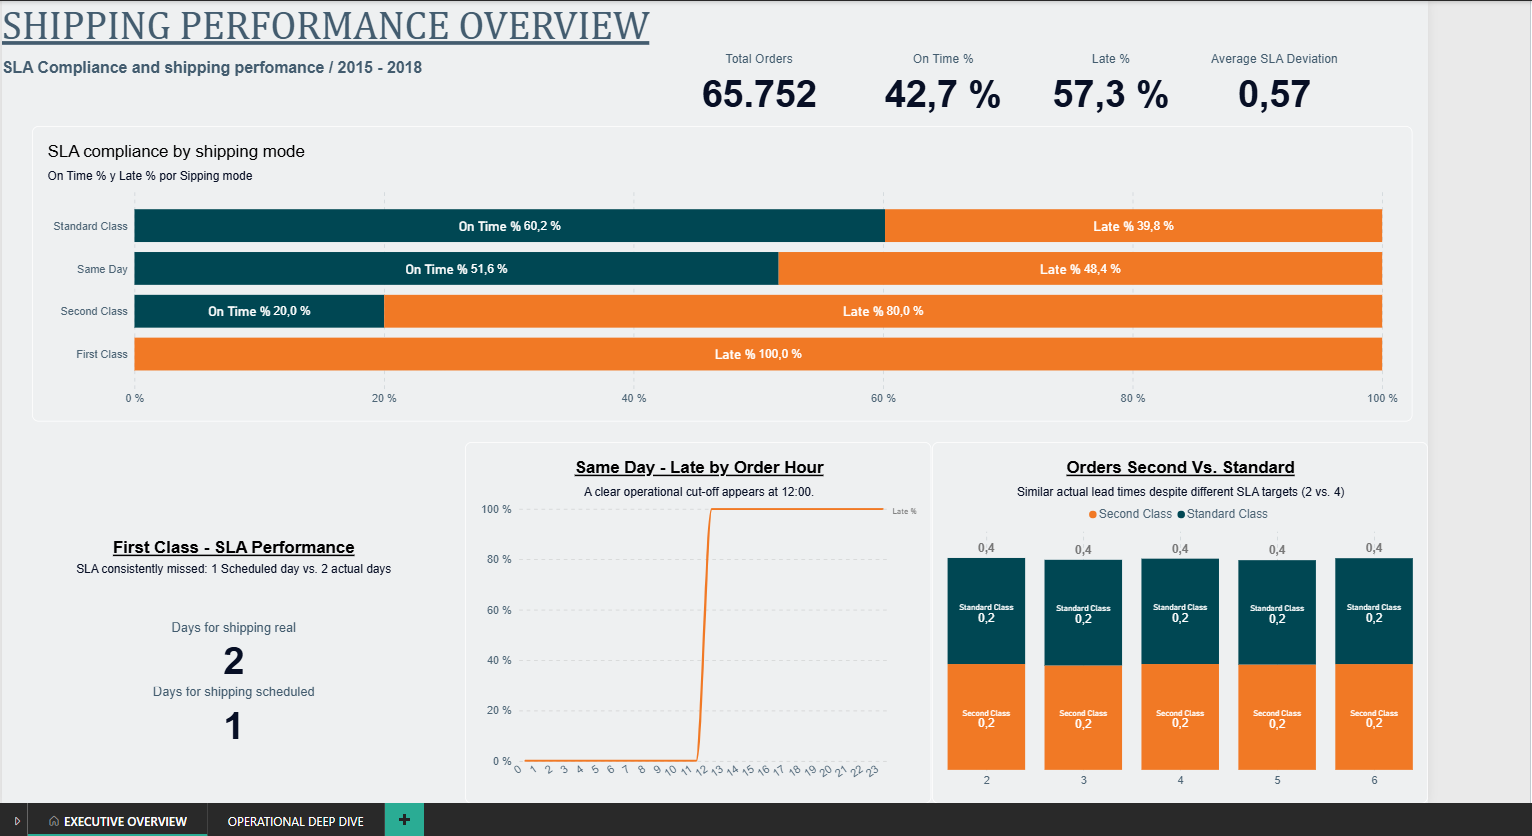

What the dashboard file says about the page in this screenshot:
{"tool":"powerbi","page":{"name":"EXECUTIVE OVERVIEW","canvas":[1920,1080],"ordinal":0},"visuals":[{"type":"lineChart","title":"Same Day - Late by Order Hour","fields":{"Category":["Orders.Order Hour"],"Y":["Orders.Late %"]},"box":[624.1,593.7,628.4,486.5],"z":0},{"type":"barChart","title":"SLA compliance by shipping mode","fields":{"Category":["Orders.Sipping mode"],"Y":["Orders.On Time %","Orders.Late %"]},"box":[40.5,168,1859.2,398.2],"z":1000},{"type":"columnChart","title":"Orders Second Vs. Standard","fields":{"Category":["Orders.Days for shipping Real"],"Y":["Orders.Orders Within Shipping Mode %"],"Series":["Orders.Sipping mode"]},"box":[1252.5,593.7,667.5,486.5],"z":2000},{"type":"cardVisual","title":"First Class - SLA Performance","fields":{"Data":["Max(Orders.Days for shipping Real)","Max(Orders.Days for shipping (scheduled))"],"Rows":["Orders.Sipping mode"]},"box":[0,697.9,624.1,309.9],"z":3000},{"type":"cardVisual","fields":{"Data":["Orders.On Time %"]},"box":[1162.7,30.4,211.4,137.6],"z":4000},{"type":"cardVisual","fields":{"Data":["Orders.Late %"]},"box":[1391.5,30.4,205.6,137.6],"z":5000},{"type":"cardVisual","fields":{"Data":["Orders.Total Orders"]},"box":[876,30.4,286.7,137.6],"z":6000},{"type":"textbox","box":[0,0,863,78.2],"z":7000},{"type":"textbox","box":[0,78.2,809.4,42],"z":8000},{"type":"cardVisual","fields":{"Data":["Orders.Average SLA Deviation"]},"box":[1597.1,30.4,233.1,137.6],"z":9000}]}

Visuals, with their boxes on the page's 1920x1080 design canvas (x1, y1, x2, y2). These are canvas units, not pixel positions in the 1532x836 screenshot, which may show the page scaled, cropped or inside an application window:
"Same Day - Late by Order Hour" lineChart: bbox=[624, 594, 1252, 1080]
"SLA compliance by shipping mode" barChart: bbox=[40, 168, 1900, 566]
"Orders Second Vs. Standard" columnChart: bbox=[1252, 594, 1920, 1080]
"First Class - SLA Performance" cardVisual: bbox=[0, 698, 624, 1008]
cardVisual - Orders.On Time %: bbox=[1163, 30, 1374, 168]
cardVisual - Orders.Late %: bbox=[1392, 30, 1597, 168]
cardVisual - Orders.Total Orders: bbox=[876, 30, 1163, 168]
textbox: bbox=[0, 0, 863, 78]
textbox: bbox=[0, 78, 809, 120]
cardVisual - Orders.Average SLA Deviation: bbox=[1597, 30, 1830, 168]
